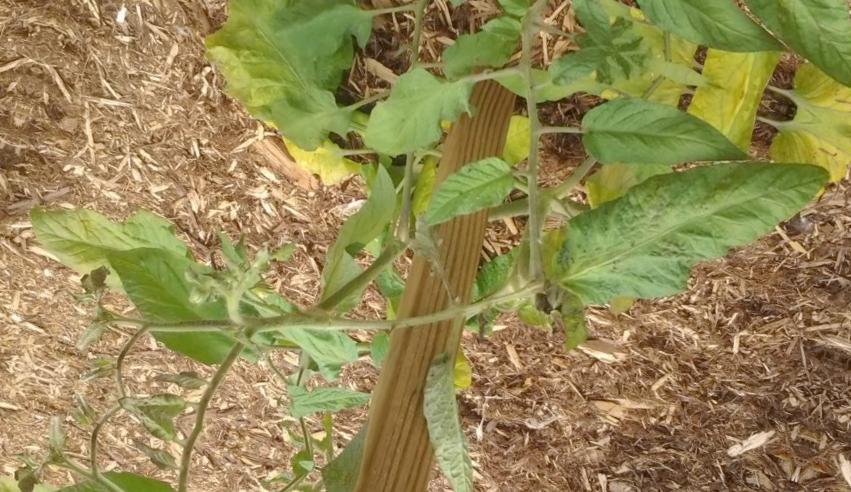Tomato leaf: (541, 97, 842, 371), (8, 173, 191, 304), (356, 39, 492, 199)
